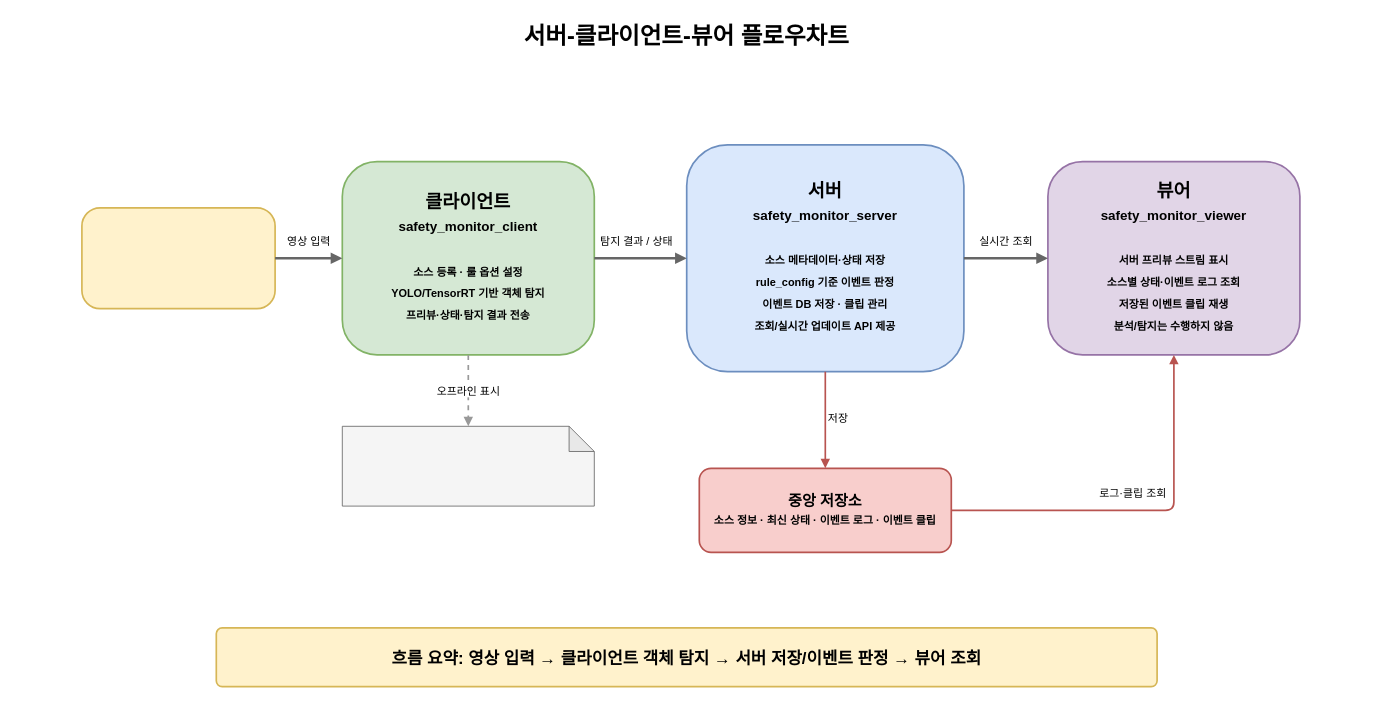
The diagram is 1373 pixels wide and 701 high, and some of its shapes have lost their labels. Each missing label, with the centre of its shape:
상태 예시: 클라이언트가 종료되면 해당 소스는 서버에서 오프라인으로 표시: (x=467, y=465)
영상 소스 로컬 파일 / 카메라 / 스트림: (x=178, y=258)
